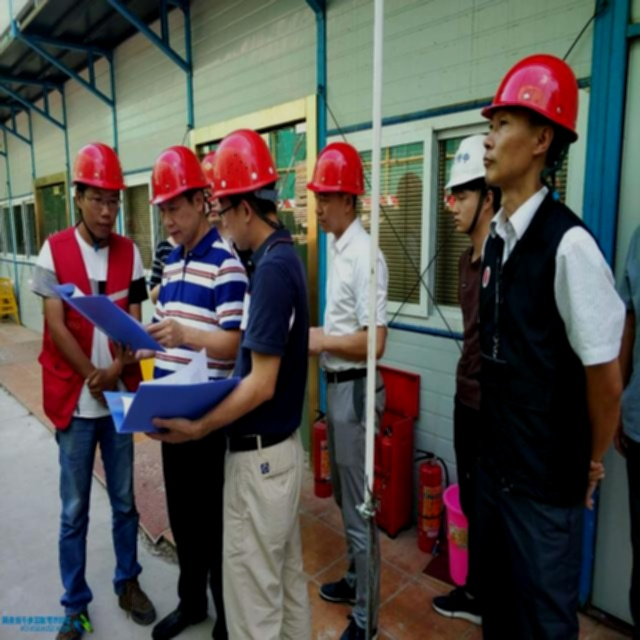Con_Casco: (488, 54, 576, 185)
Sin_Chaleco: (459, 196, 607, 484), (71, 145, 122, 232)
